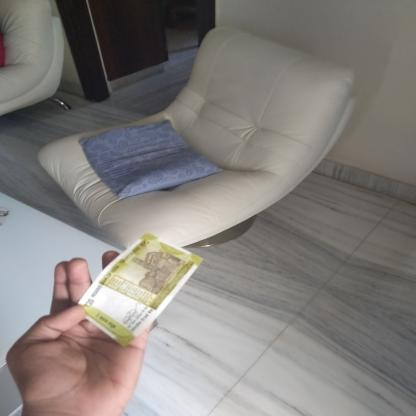New20Back: (77, 240, 189, 336)
